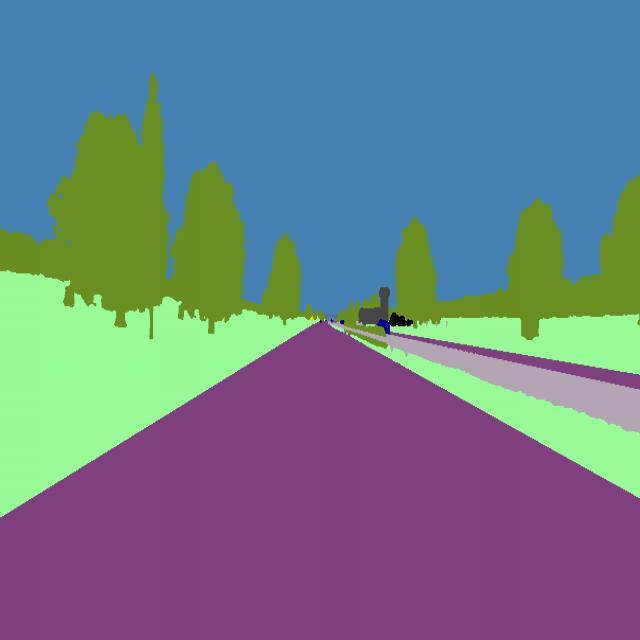safe: (370, 310, 393, 338)
